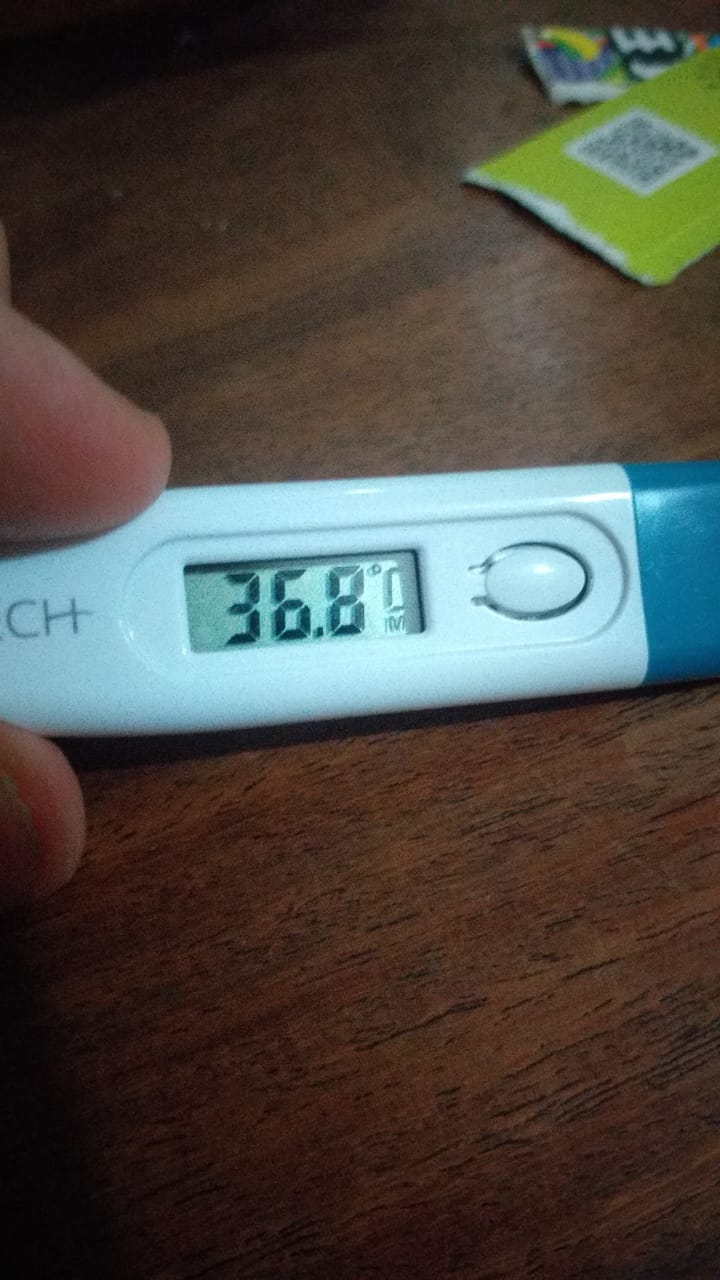display: (167, 547, 439, 656)
